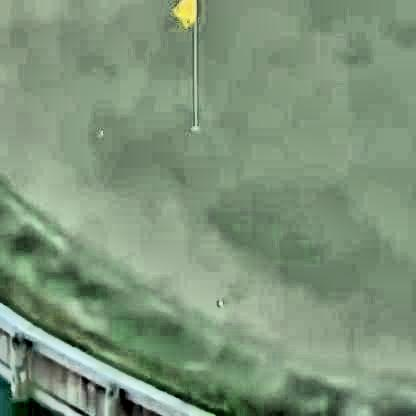golfball: (96, 127, 101, 134)
